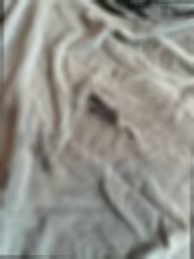oil: (84, 86, 140, 145)
